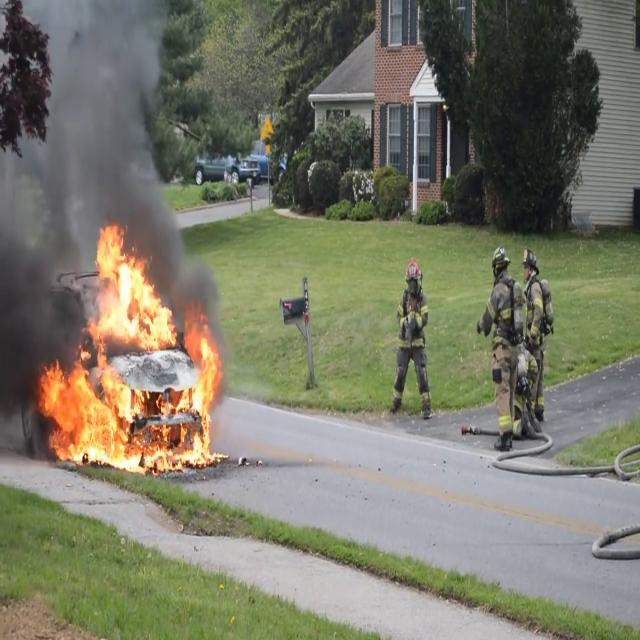Fire: (36, 223, 224, 474)
Smoke: (0, 0, 190, 277)
